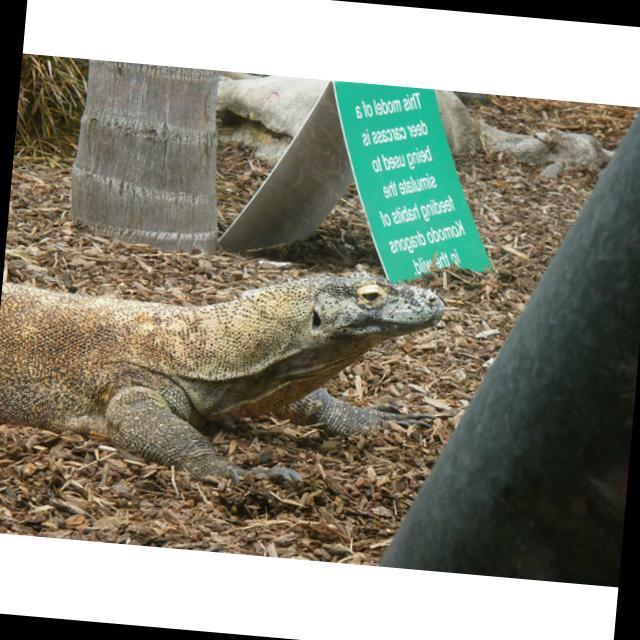KomodoDragon: (0, 240, 447, 505)
